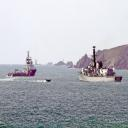Fragata: (79, 45, 125, 85)
